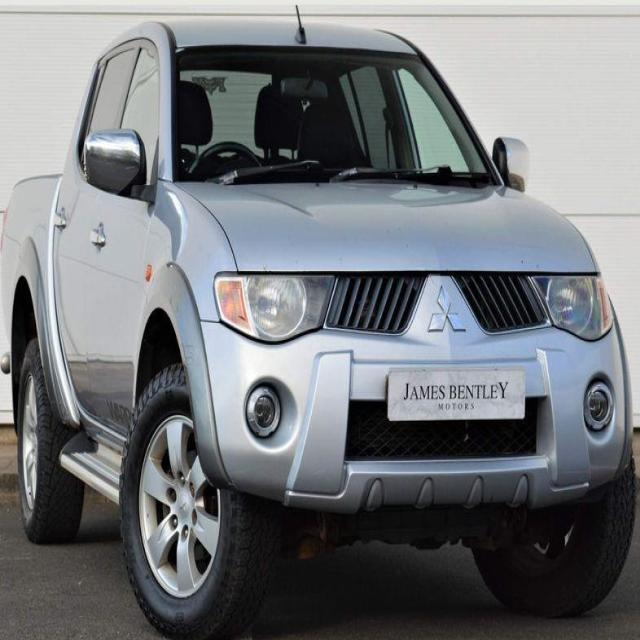CMT: (6, 33, 639, 624)
